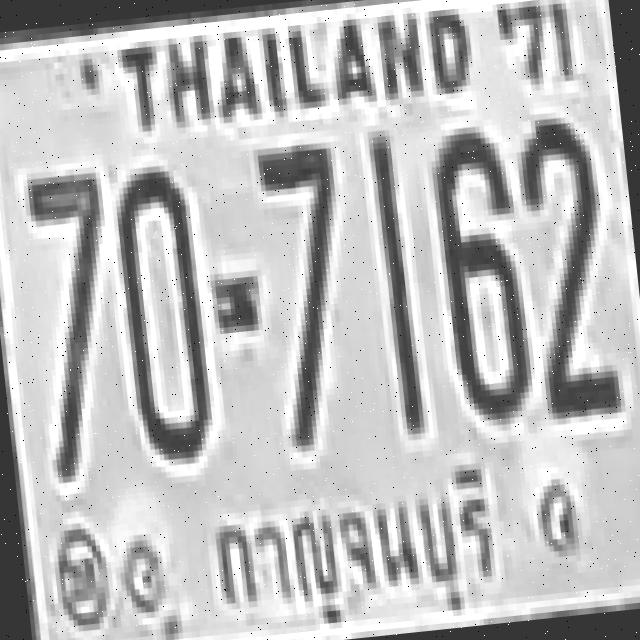0: (110, 163, 213, 462)
1: (365, 129, 418, 393)
2: (510, 111, 616, 387)
6: (427, 120, 530, 420)
7: (255, 139, 358, 438), (21, 166, 124, 460), (255, 139, 352, 390), (22, 166, 118, 394), (255, 136, 348, 340), (22, 170, 113, 356)
Kanchanaburi: (193, 463, 521, 640)
